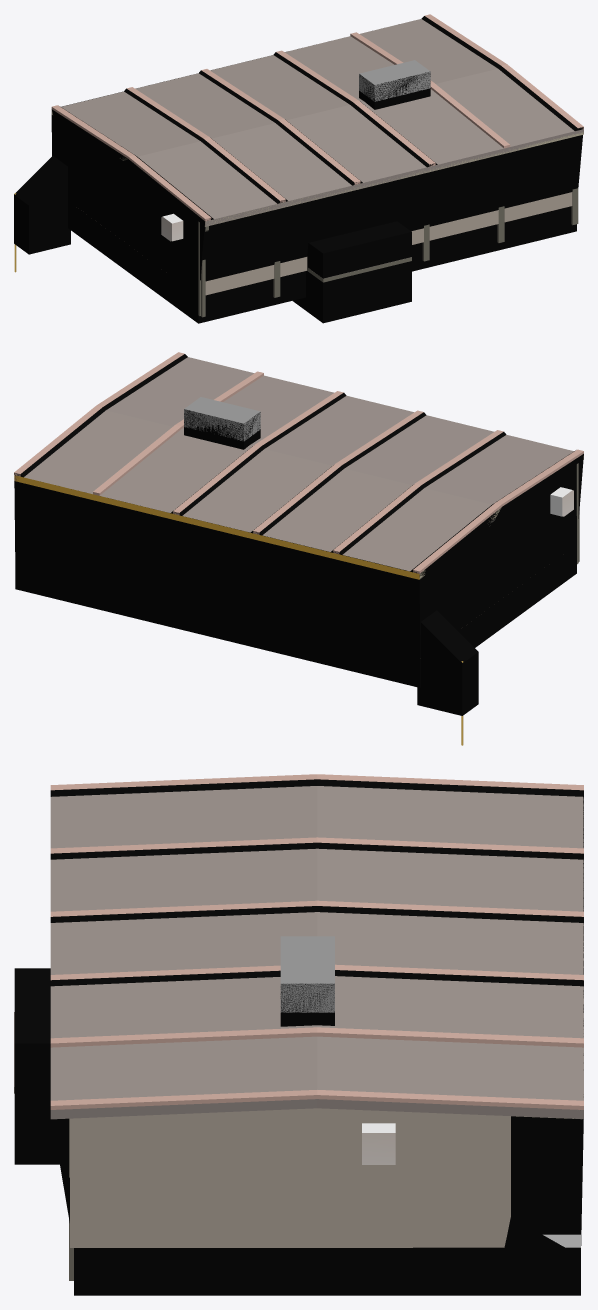
Rendered from office_mobile4.dae.
3 views of the same model, one above another, from view 1: azimuth 30°, elevation 25°; view 2: azimuth 150°, elevation 25°; view 3: azimuth 270°, elevation 25° (orthographic). The views are drawn at different scales.
Parts seen in each view (by area): view 1: Colmesh-1, office_mobile4_a100, office_mobile4_a500, office_mobile4_a250; view 2: Colmesh-1, office_mobile4_a100, office_mobile4_a500, office_mobile4_a250; view 3: office_mobile4_a100, Colmesh-1, office_mobile4_a500, office_mobile4_a250.
Part boxes in pixels (bbox=[...]): Colmesh-1: bbox=[14, 16, 583, 323]; office_mobile4_a100: bbox=[61, 19, 583, 295]; office_mobile4_a500: bbox=[14, 14, 583, 317]; office_mobile4_a250: bbox=[120, 132, 583, 315]; Colmesh-1: bbox=[14, 354, 583, 715]; office_mobile4_a100: bbox=[14, 357, 573, 571]; office_mobile4_a500: bbox=[14, 352, 583, 745]; office_mobile4_a250: bbox=[15, 456, 583, 579]; office_mobile4_a100: bbox=[50, 786, 583, 1247]; Colmesh-1: bbox=[14, 779, 583, 1295]; office_mobile4_a500: bbox=[50, 774, 583, 1164]; office_mobile4_a250: bbox=[14, 1012, 581, 1280].
Bounding box in the file's own units: 17.26 × 11.42 × 7.01.
